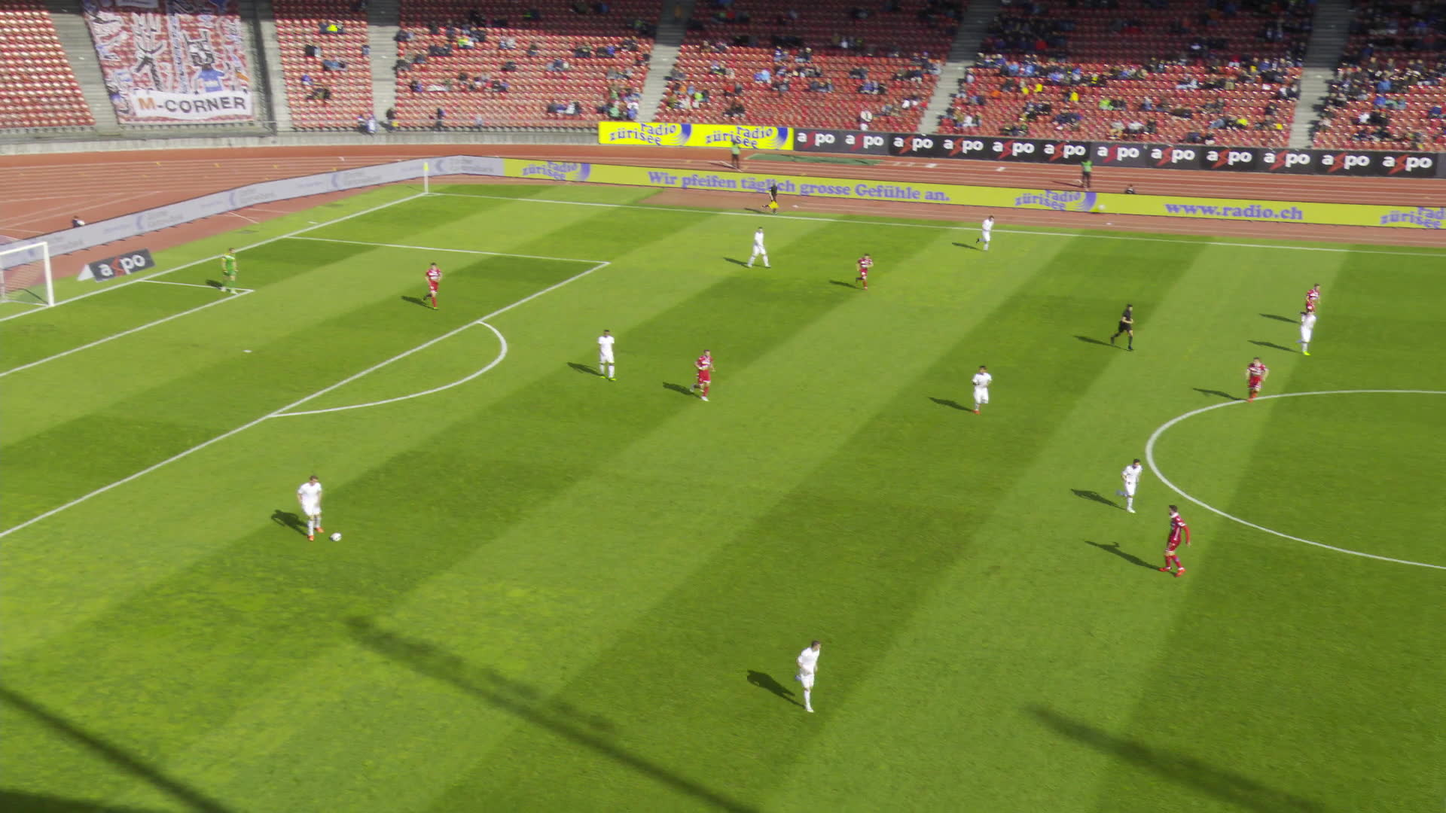ball: (331, 532, 340, 540)
player: (789, 637, 824, 711), (1160, 504, 1191, 576), (295, 472, 325, 539), (1112, 458, 1145, 512), (691, 349, 718, 402), (1246, 358, 1271, 404), (970, 364, 993, 414), (596, 328, 616, 381), (1295, 309, 1316, 356), (422, 261, 442, 309), (747, 227, 770, 268), (1299, 283, 1322, 321), (221, 246, 238, 293), (975, 215, 995, 251), (855, 252, 874, 289)
referee: (1110, 303, 1133, 350), (761, 182, 779, 215)
